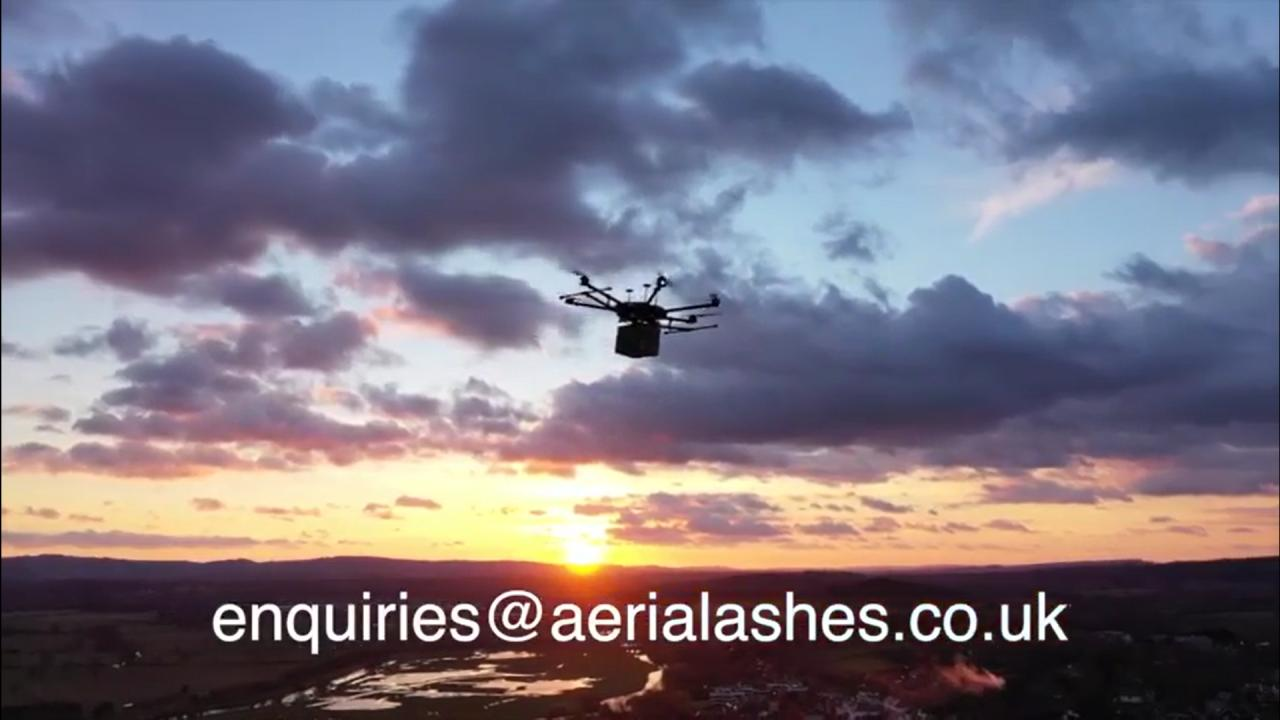Drone: (547, 261, 736, 343)
